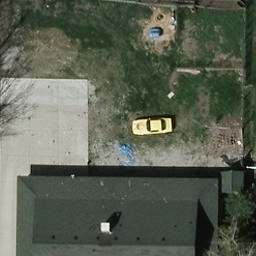car: (130, 118, 173, 135)
